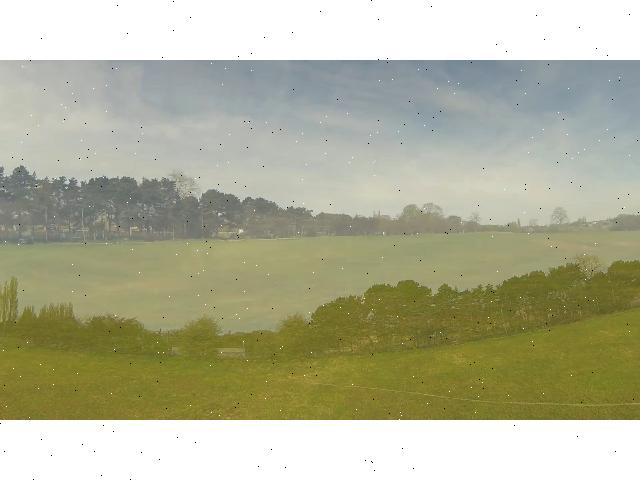Anti-Drone: (369, 157, 381, 169)
